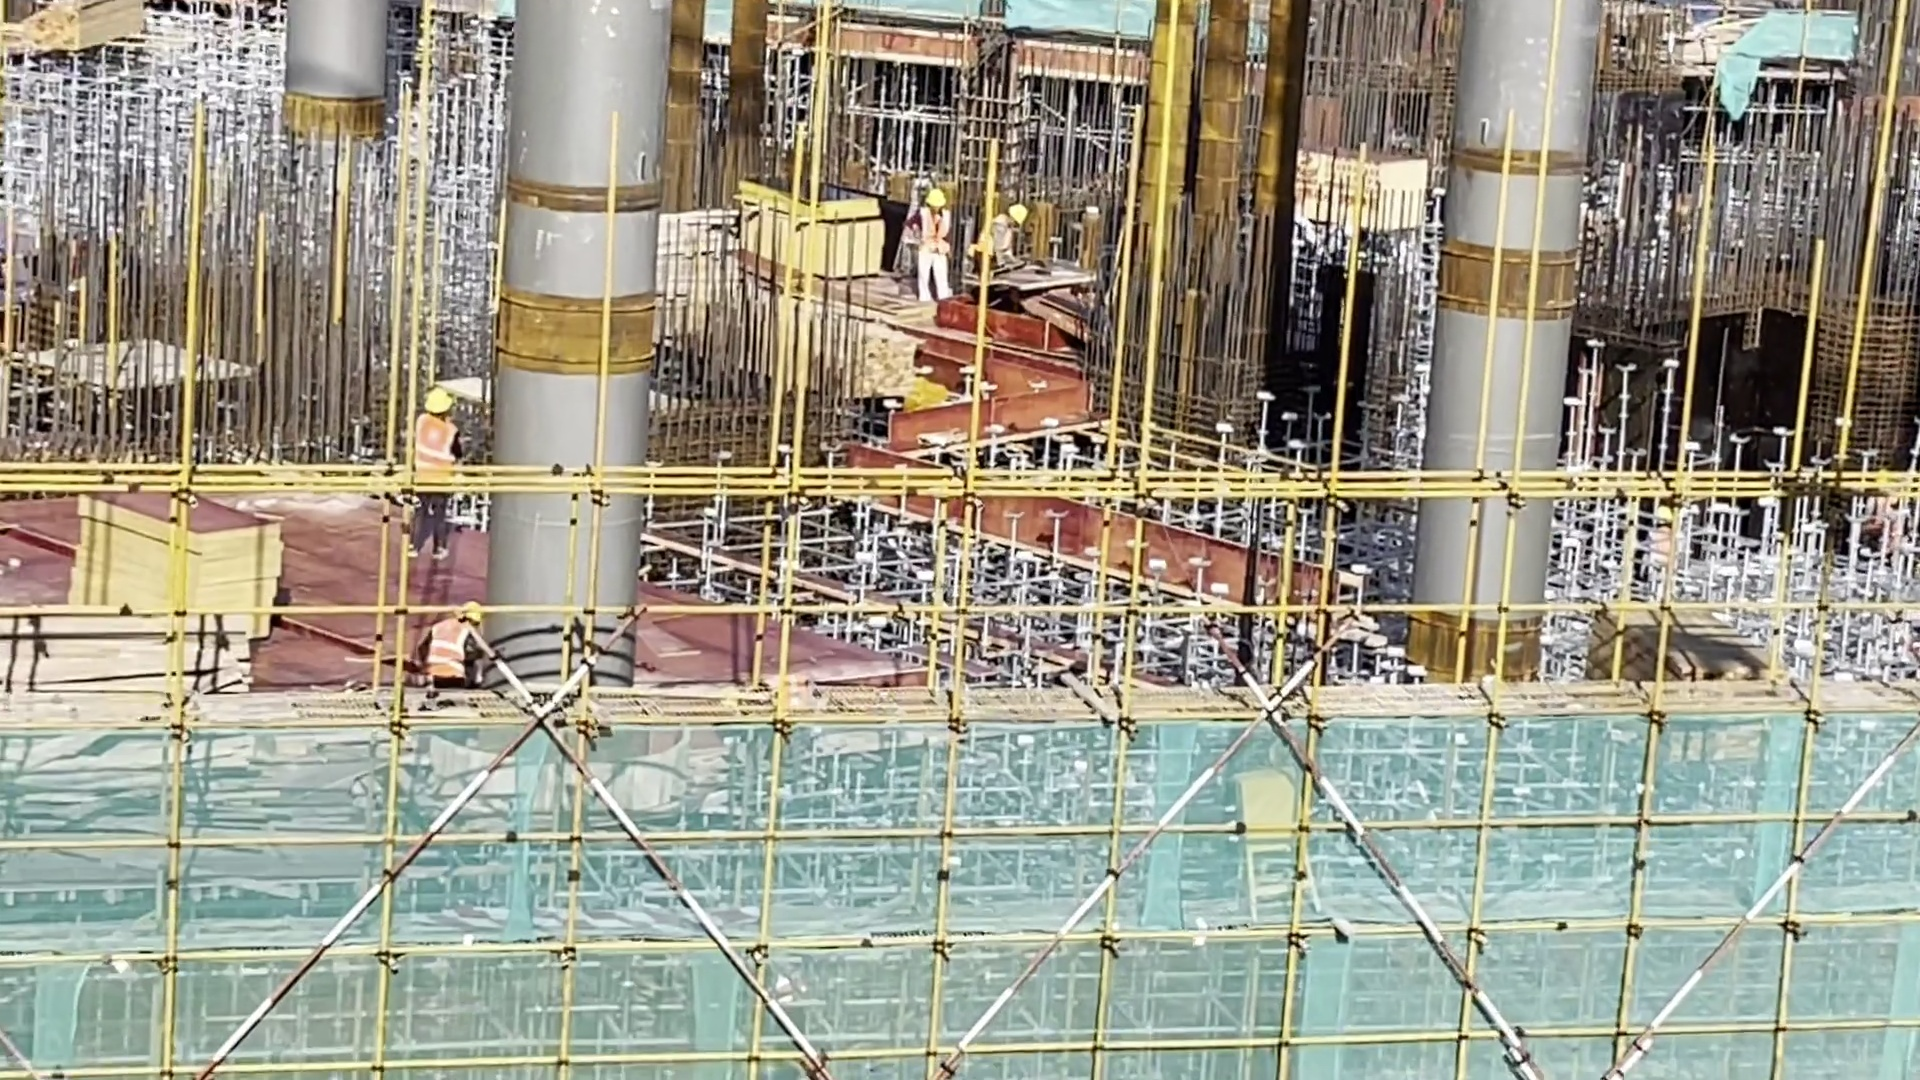board: (65, 479, 284, 679), (736, 165, 881, 283), (1584, 606, 1770, 699)
ebox: (1213, 762, 1343, 928)
helmet: (423, 384, 462, 423), (458, 598, 488, 633), (924, 185, 952, 216), (1005, 202, 1030, 227)
person: (412, 390, 469, 566), (422, 591, 498, 699), (911, 184, 956, 313), (973, 191, 1037, 277)
vest: (429, 615, 476, 686), (419, 418, 462, 488), (918, 209, 956, 262), (979, 217, 1013, 262)
wood: (1, 610, 247, 736), (1, 1, 151, 63)
